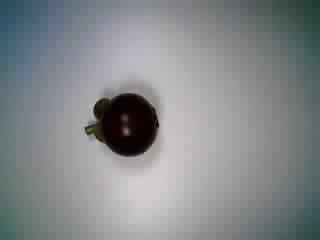mangosteen: (77, 89, 159, 164)
